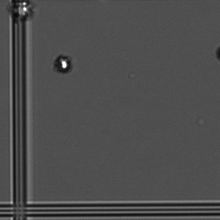Living Cell: (5, 1, 40, 24), (48, 51, 75, 75)
